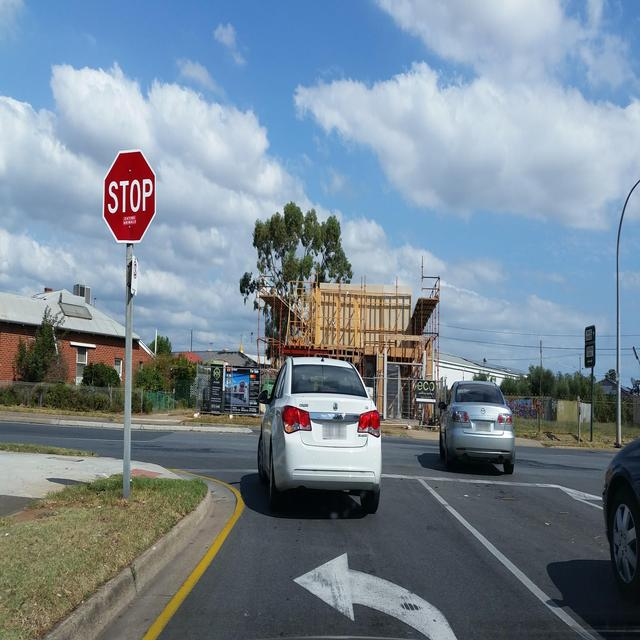Billboard: (416, 380, 435, 403), (211, 359, 260, 367)
Car: (257, 338, 381, 514), (438, 381, 514, 474), (602, 432, 639, 601)
Manhole: (46, 457, 161, 477)
Vegetation: (0, 306, 153, 414), (471, 364, 590, 395), (132, 335, 195, 391)
